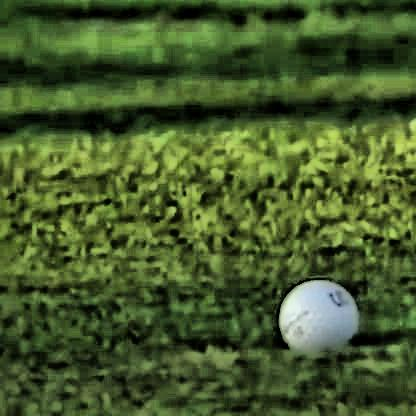golfball: (272, 276, 355, 356)
